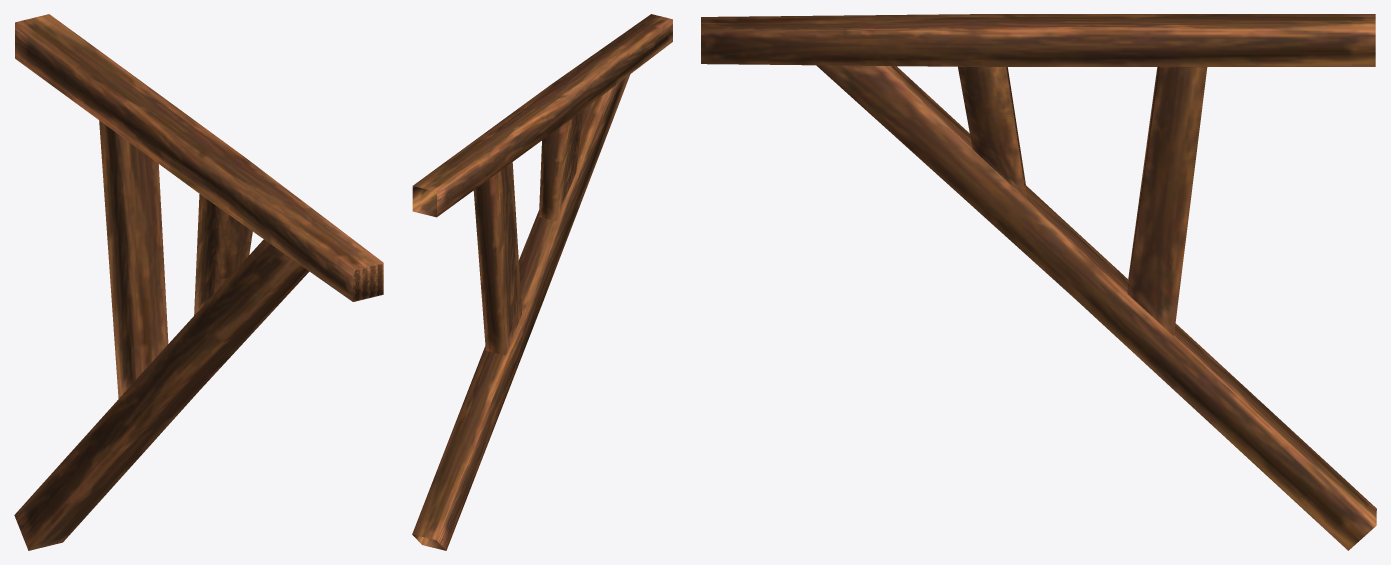
Rendered from INST_SWORDLIGHT_TRACKBRACKC.fbx.
3 views of the same model, side by side, from view 1: azimuth 30°, elevation 25°; view 2: azimuth 150°, elevation 25°; view 3: azimuth 270°, elevation 25° (orthographic). The views are drawn at different scales.
Parts seen in each view (by area): view 1: INST_SWORDLIGHT_TRACKBRACKC; view 2: INST_SWORDLIGHT_TRACKBRACKC; view 3: INST_SWORDLIGHT_TRACKBRACKC.
Part boxes in pixels (<box>): INST_SWORDLIGHT_TRACKBRACKC: <box>14,14,383,550</box>; INST_SWORDLIGHT_TRACKBRACKC: <box>412,14,672,550</box>; INST_SWORDLIGHT_TRACKBRACKC: <box>701,14,1376,550</box>.
Size of the model in its own units: 4597 by 65740 by 77400.
1 material, 1 textured.
